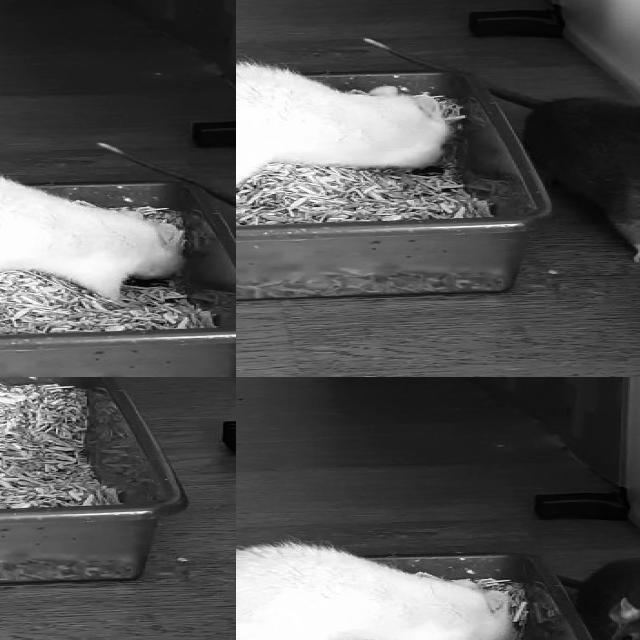rat: (236, 64, 452, 199), (236, 543, 518, 640), (0, 175, 179, 310), (521, 98, 640, 271)
